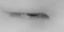LeftEyeFatigue: (2, 3, 54, 32)
